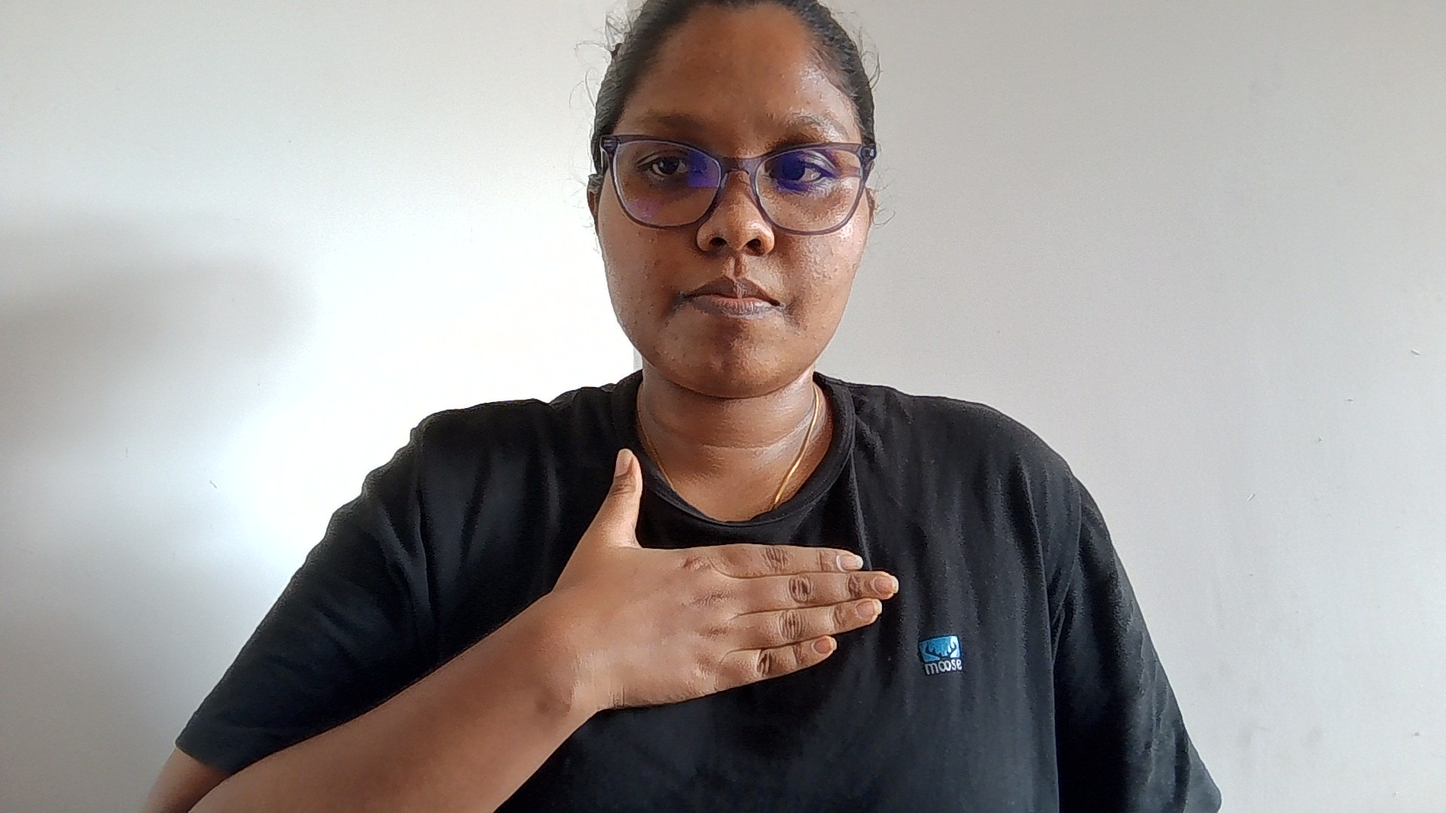Please: (559, 430, 929, 743)
